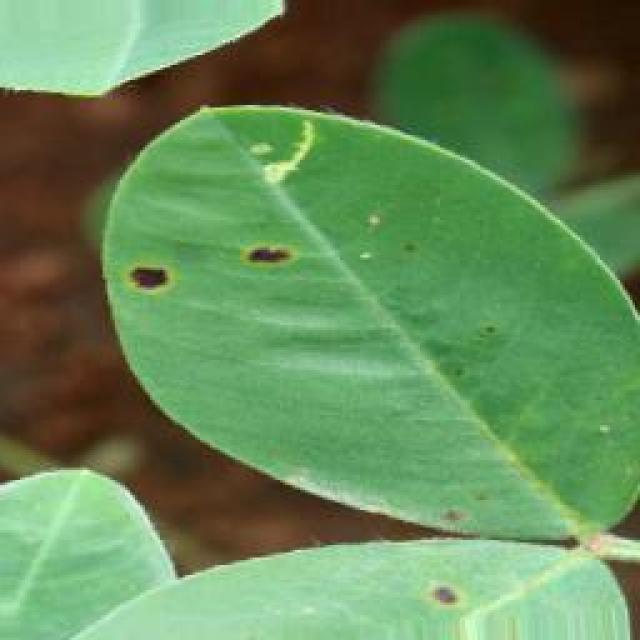Sigatoka: (221, 201, 323, 288), (432, 494, 504, 561), (122, 241, 178, 324), (411, 562, 477, 612)
